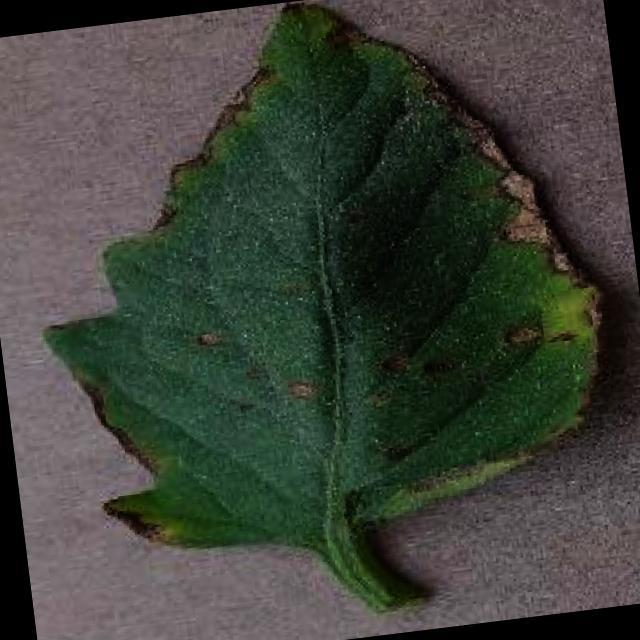Tomato bacterial spot leaf: (0, 0, 637, 581)
